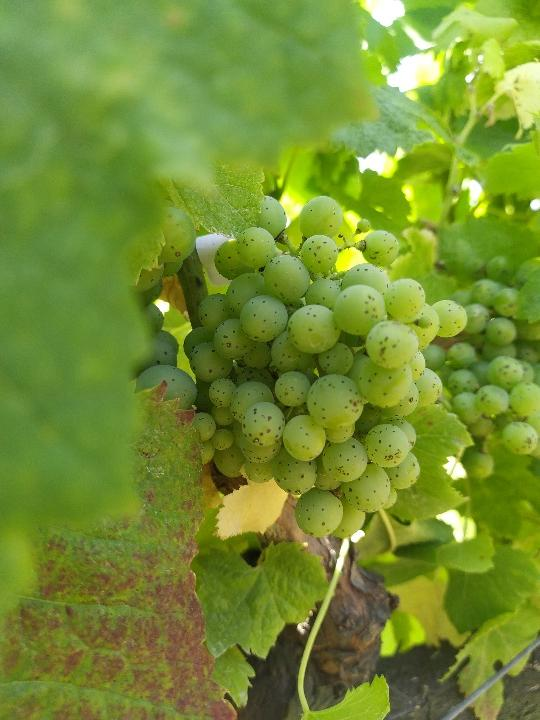grape: (178, 190, 468, 542)
